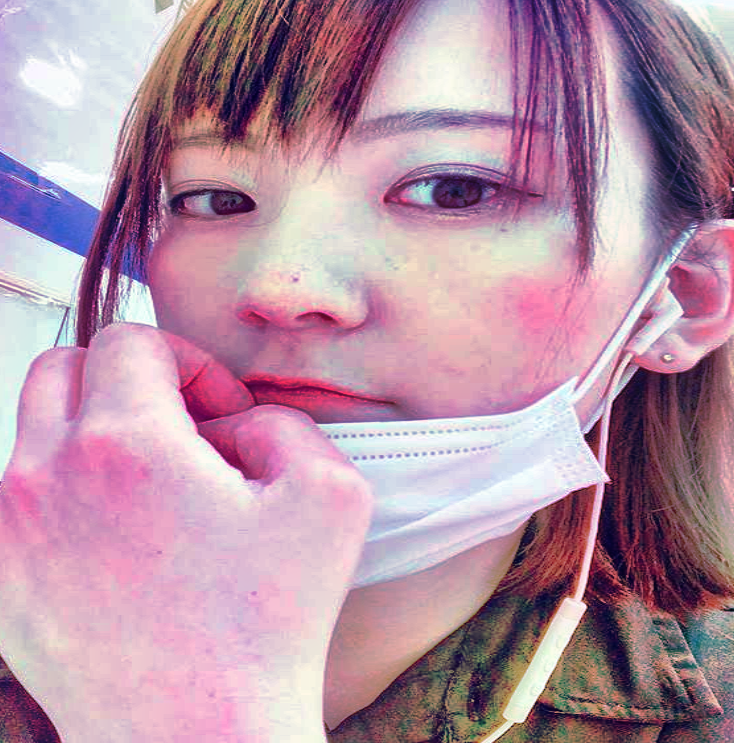mask_weared_incorrect: (139, 1, 733, 575)
